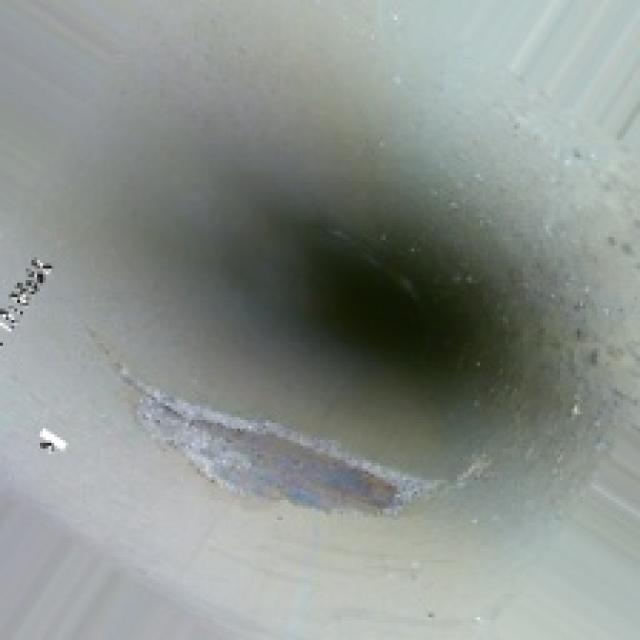pipe_surface_damage: (106, 346, 466, 528)
